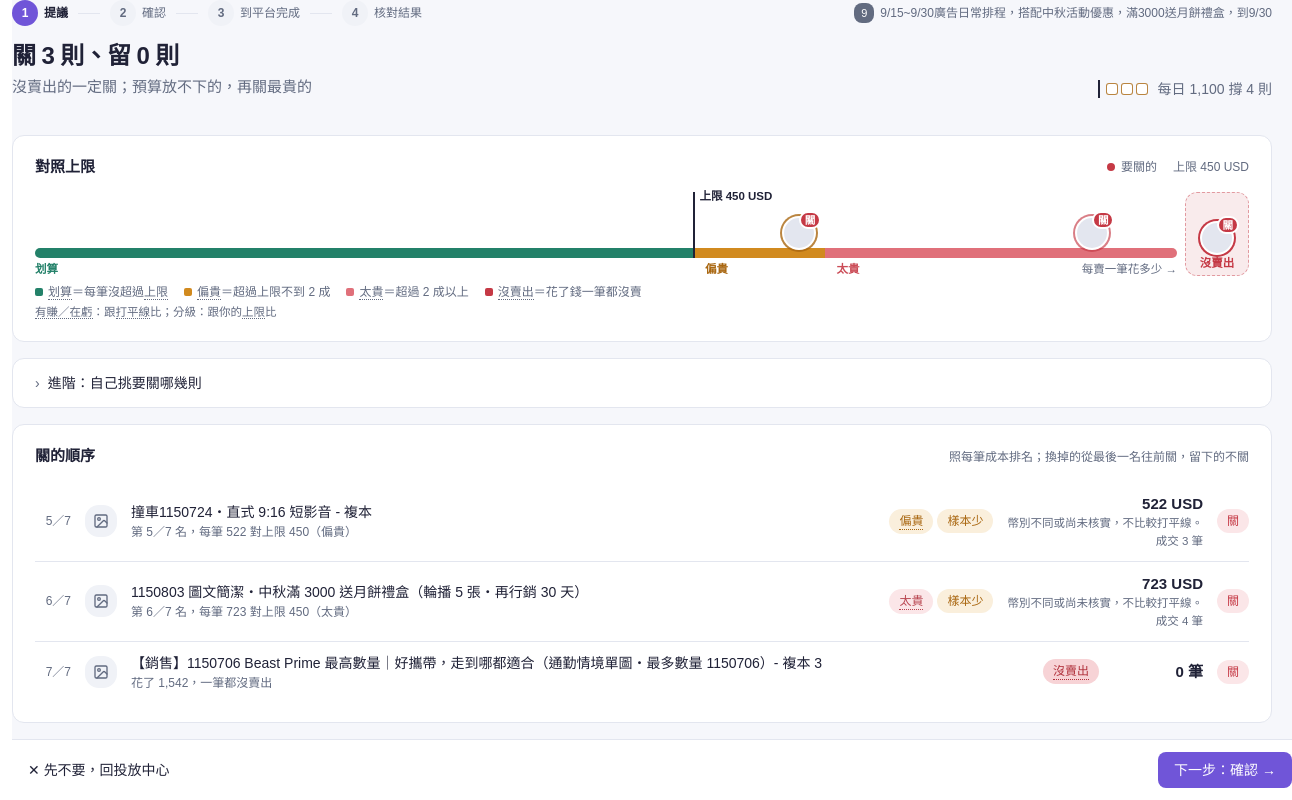
it: CleanupProposal（F28-I11） › keeps known USD comparisons and blocks a foreign break-even line without reordering
Expected: the text "每日 1,100 撐 4 則" is shown, [1158, 78, 1272, 98]
Expected: the element showing "上限 450 USD" is shown, [694, 192, 696, 258]
Click the heading "› 進階：自己挑要關哪幾則" at (118, 383), box [35, 375, 202, 391]
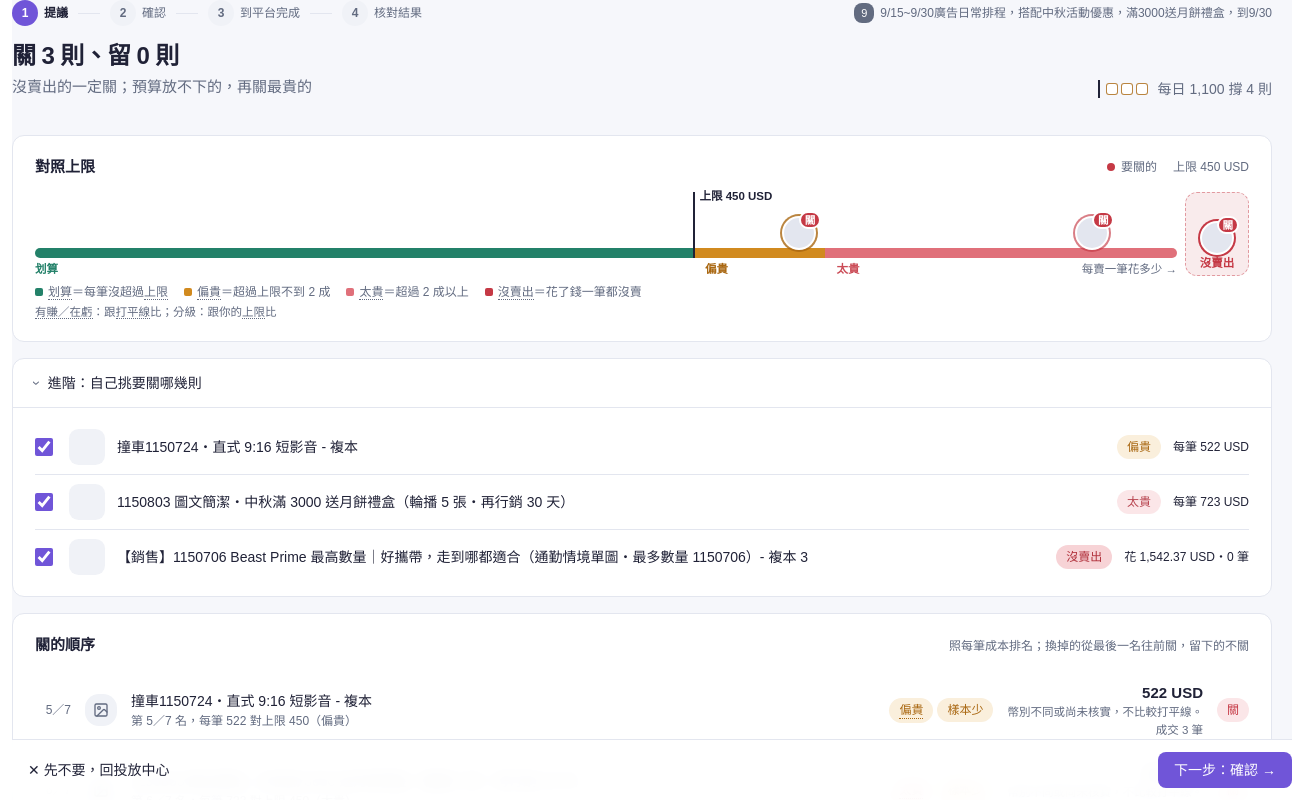
Expected: the text "每筆 522 USD" is shown, [1173, 439, 1249, 455]
